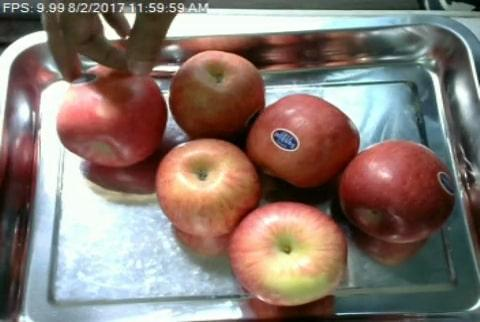Apple: (337, 140, 456, 242), (230, 201, 347, 304), (56, 66, 168, 167), (246, 94, 361, 188), (154, 139, 261, 236), (168, 49, 264, 138)
